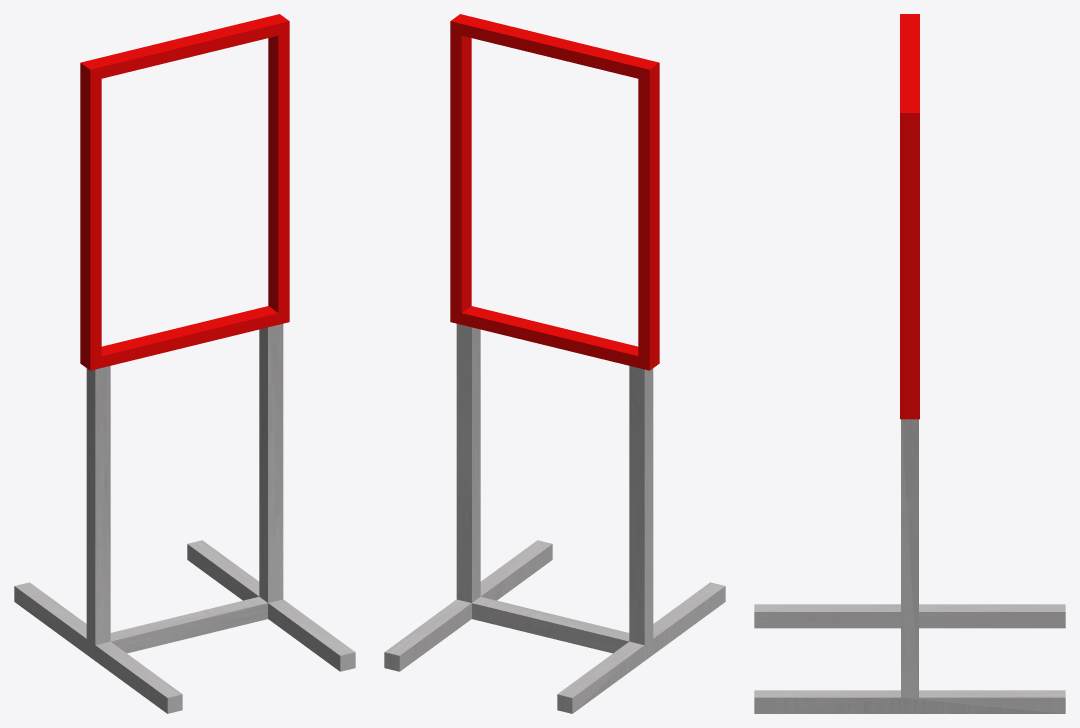
3 views of the same model, side by side, from view 1: azimuth 30°, elevation 25°; view 2: azimuth 150°, elevation 25°; view 3: azimuth 270°, elevation 25° (orthographic).
Visible parts, largest first — view 1: base_link; view 2: base_link; view 3: base_link.
Boxes of the visible parts, bbox=[...] form: base_link: bbox=[14, 14, 355, 713]; base_link: bbox=[384, 14, 725, 713]; base_link: bbox=[754, 14, 1065, 713].
Size of the model in its own units: 0.53 by 0.705 by 1.51.
Materials: 1 (1 with a texture image).
